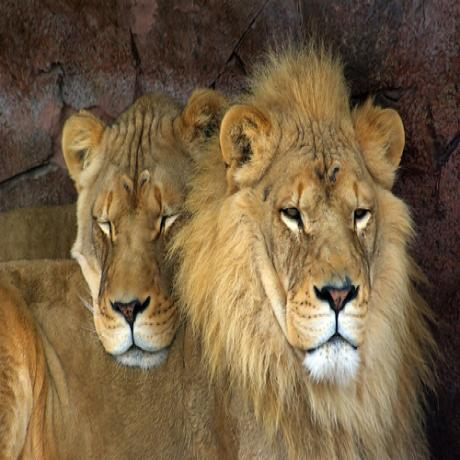Lion: (0, 51, 419, 460), (2, 90, 225, 368)
